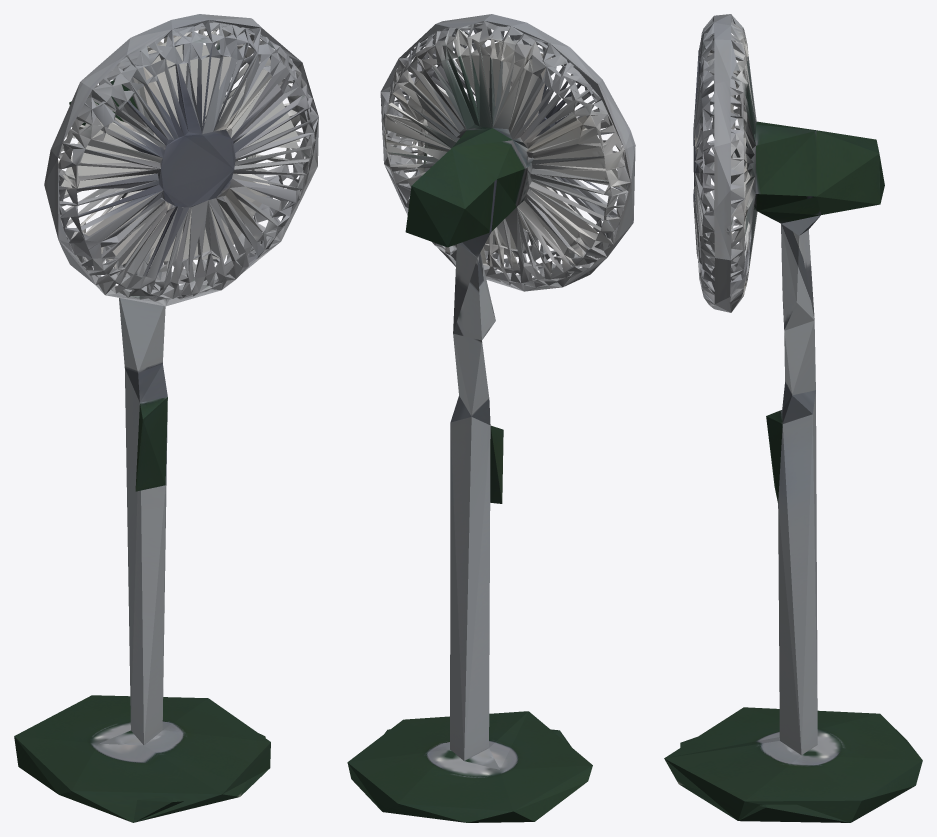
The model's file is stand_fan.glb.
3 views of the same model, side by side, from view 1: azimuth 30°, elevation 25°; view 2: azimuth 150°, elevation 25°; view 3: azimuth 270°, elevation 25° (orthographic). The views are drawn at different scales.
Visible parts, largest first — view 1: stand_fan; view 2: stand_fan; view 3: stand_fan.
Boxes of the visible parts, bbox=[...] form: stand_fan: bbox=[14, 14, 318, 822]; stand_fan: bbox=[347, 14, 635, 822]; stand_fan: bbox=[664, 14, 922, 822].
Bounding box in the file's own units: 0.4478 × 1.25 × 0.3923.
1 material, 1 textured.
